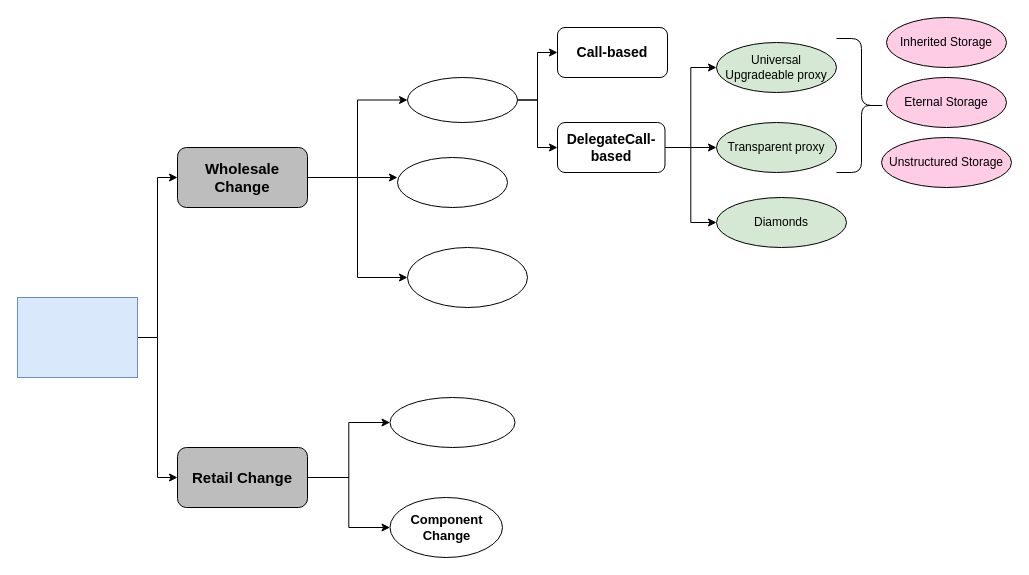
Some shapes in this 1029 by 575 pixel diagram are drawn without their labels. Each missing label, with the centre of its shape:
"Data Separation" goes at point 462,99.
"Metamorphic" goes at point 467,277.
"Migration" goes at point 452,182.
"Parameter Change" goes at point 452,422.
"Upgrades" goes at point 77,337.
